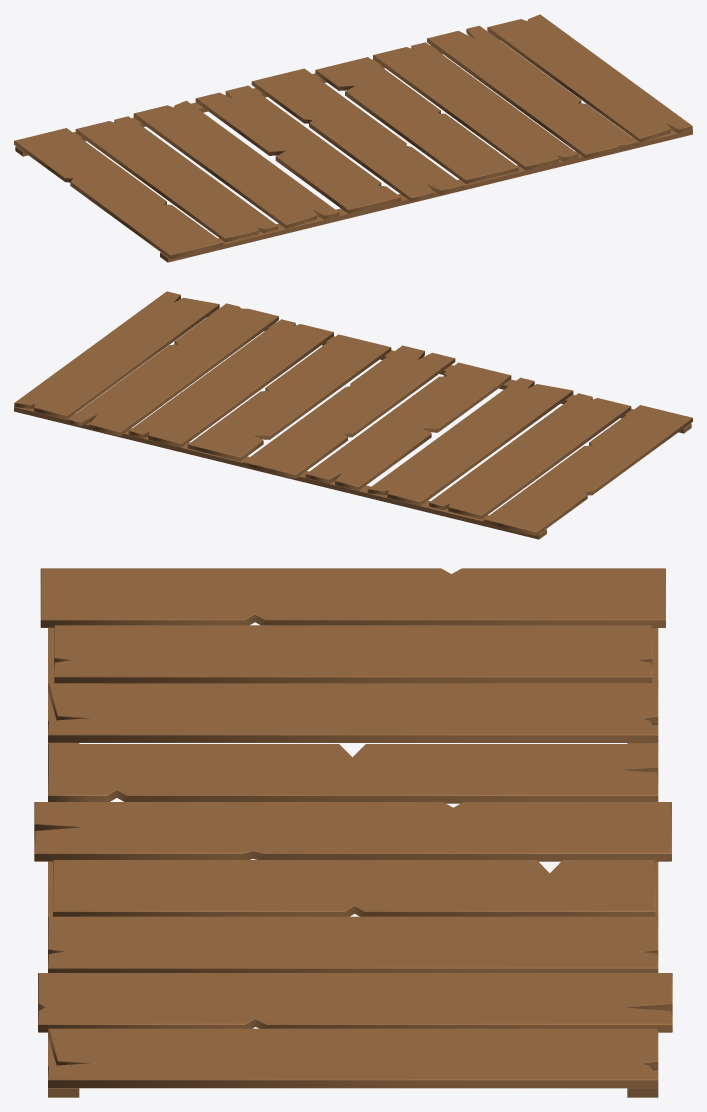
Rendered from Bridge.fbx.
3 views of the same model, one above another, from view 1: azimuth 30°, elevation 25°; view 2: azimuth 150°, elevation 25°; view 3: azimuth 270°, elevation 25° (orthographic). The views are drawn at different scales.
Visible parts, largest first — view 1: Bridge; view 2: Bridge; view 3: Bridge.
Boxes of the visible parts, x1,y1,x2,y2 form: Bridge: [14, 14, 692, 262]; Bridge: [14, 291, 692, 539]; Bridge: [34, 568, 672, 1097].
Bounding box in the file's own units: 795 × 12.78 × 418.
